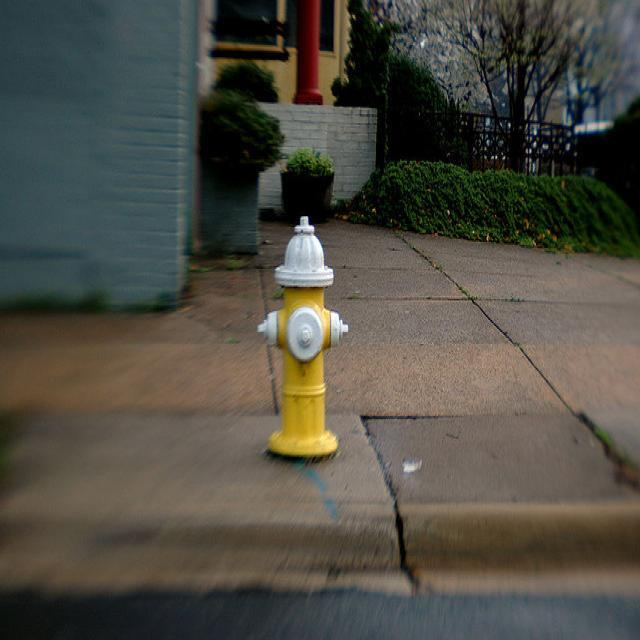fire_hydrant: (257, 217, 349, 456)
